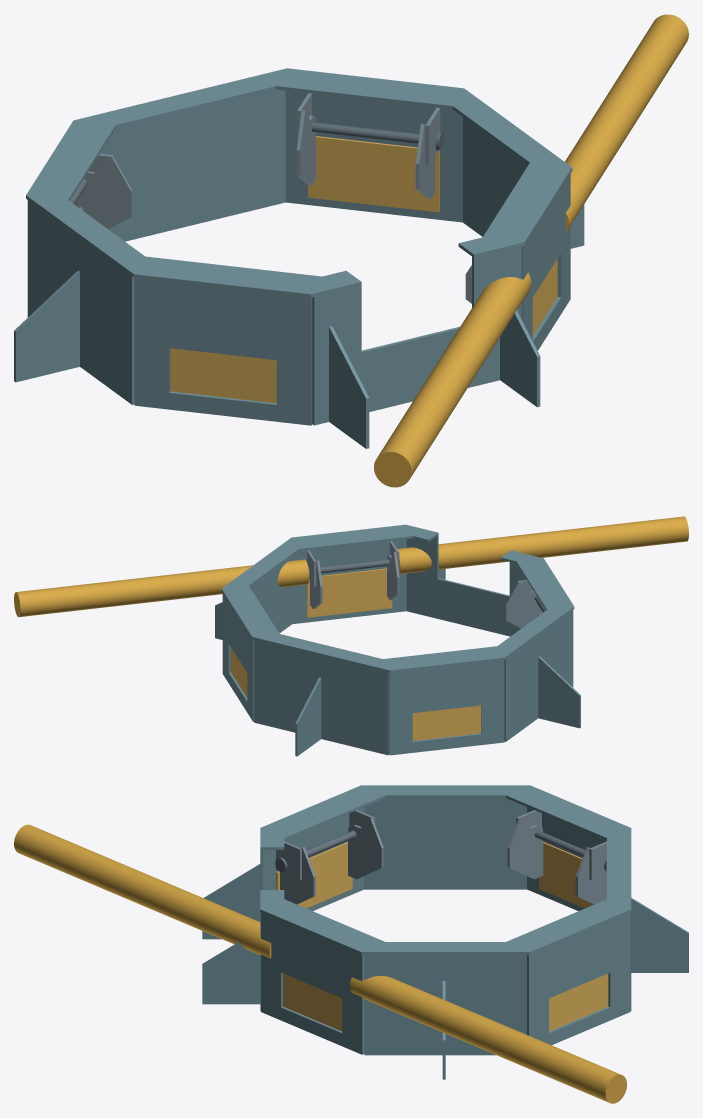
File: radial_pin_access.glb
3 renders of one model, top to bottom at view 1: azimuth 30°, elevation 25°; view 2: azimuth 150°, elevation 25°; view 3: azimuth 270°, elevation 25°, orthographic. The views are drawn at different scales.
Visible parts, largest first — view 1: radial_pin_access (×5); view 2: radial_pin_access (×5); view 3: radial_pin_access (×5).
Boxes of the visible parts, x1,y1,x2,y2 form: radial_pin_access (×5): (14,14,688,487); radial_pin_access (×5): (14,516,688,756); radial_pin_access (×5): (14,785,688,1103).
Size of the model in its own units: 0.2902 by 0.0472 by 0.2802.
